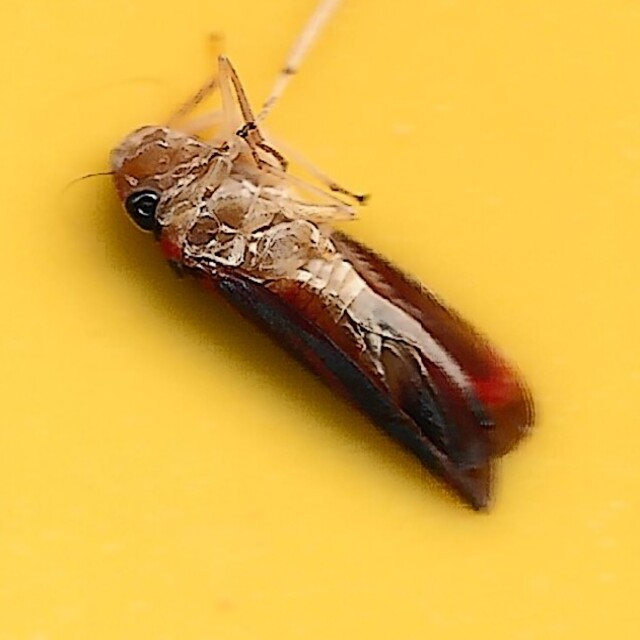Hemiptera: (101, 116, 539, 524)
